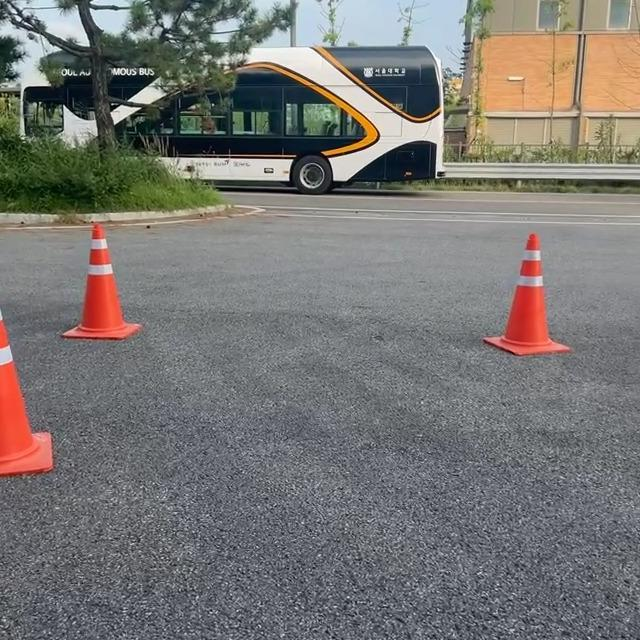fallen_object: (455, 227, 588, 397), (0, 302, 85, 510), (67, 231, 140, 357)
